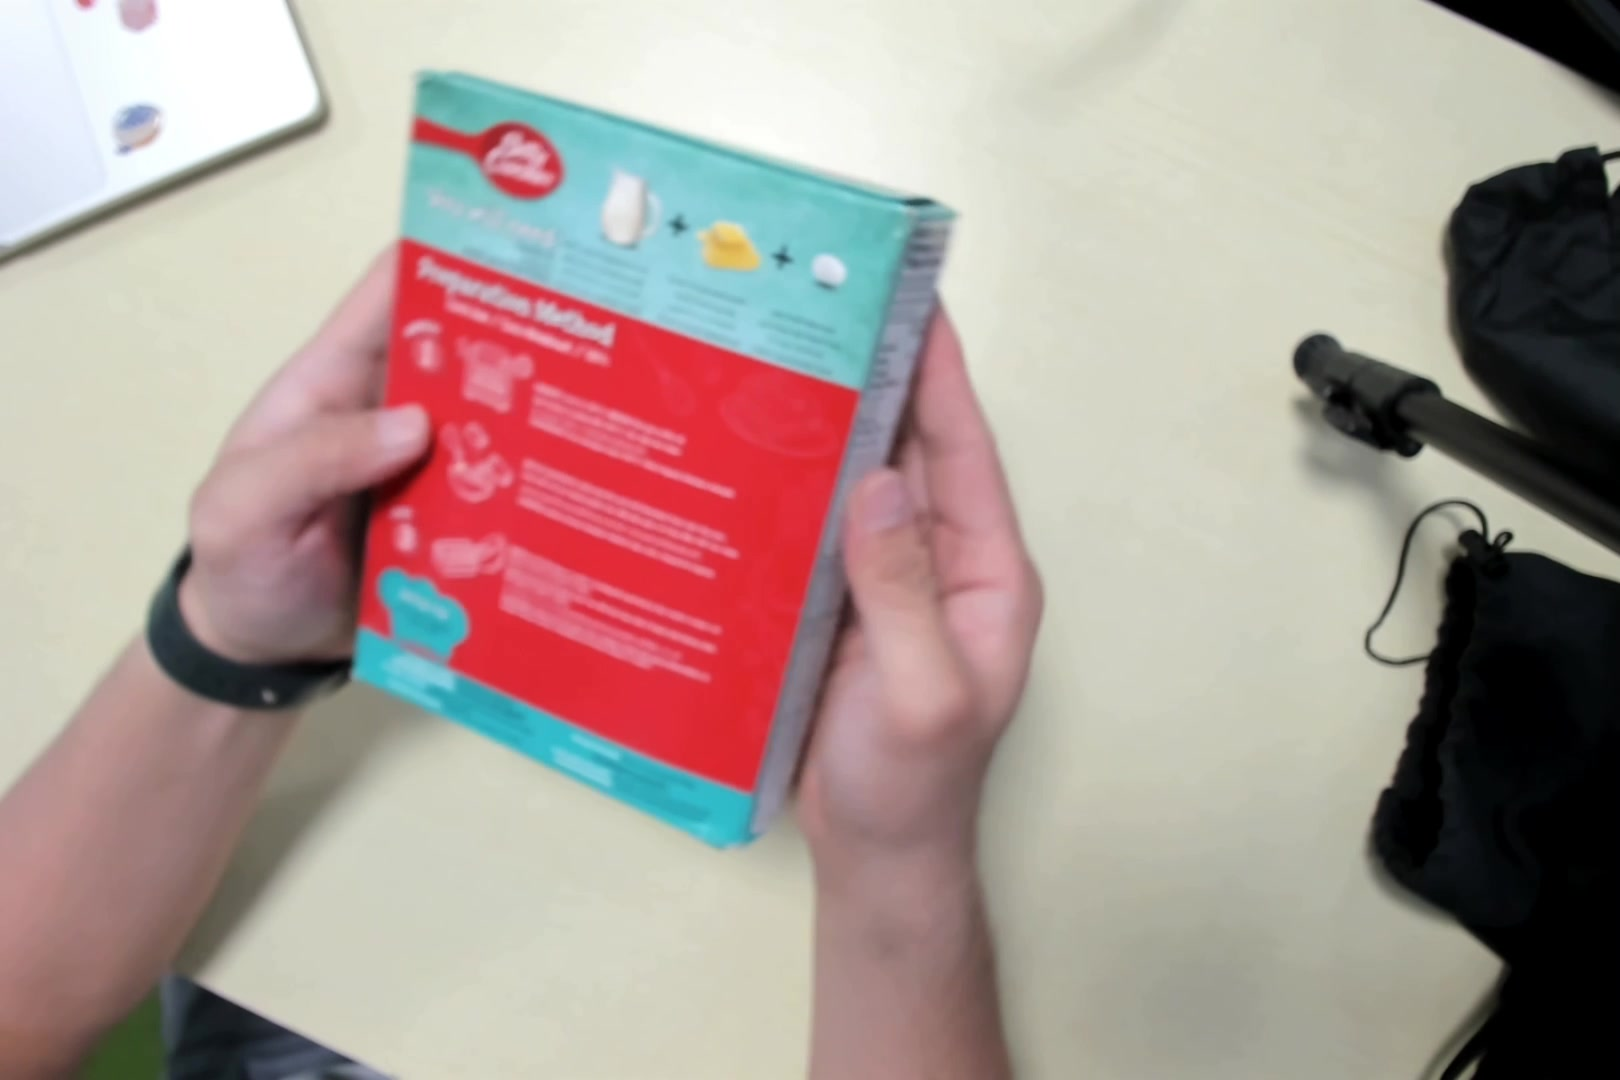OtherBakingNeeds_400-499g_Halal_NonHealthy: (350, 65, 959, 846)
